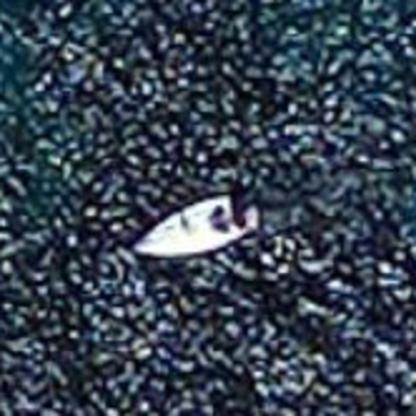ship: (118, 182, 272, 269)
